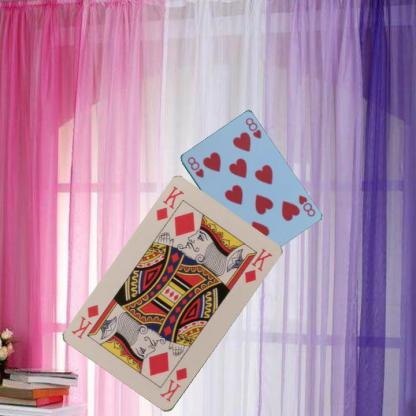8h: (295, 192, 316, 218), (184, 154, 205, 179)
Kd: (153, 183, 186, 223), (157, 365, 189, 403)
